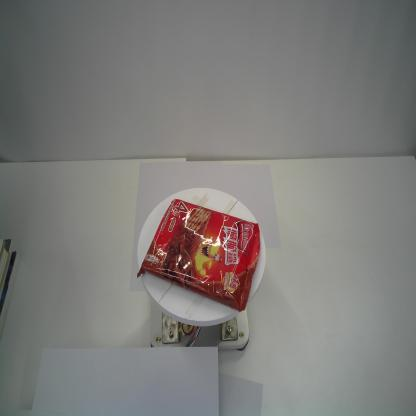Dessert: (136, 198, 260, 312)
